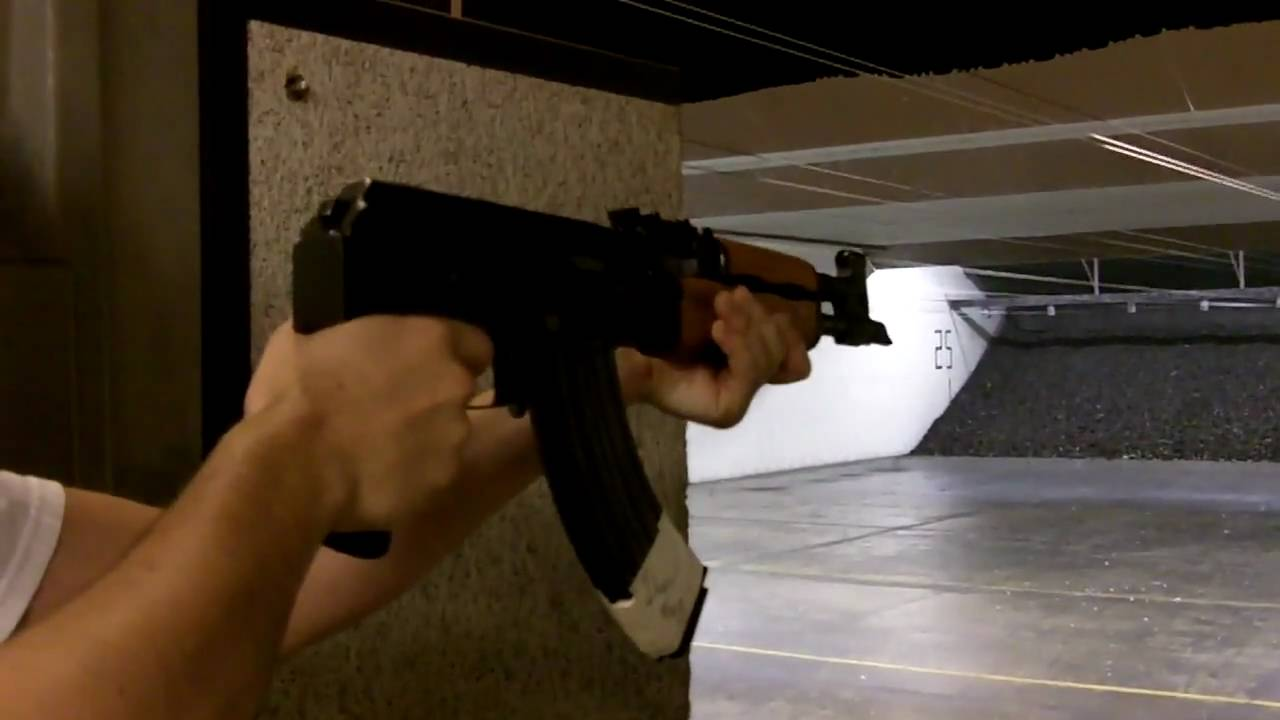Rifle: (295, 177, 902, 670)
